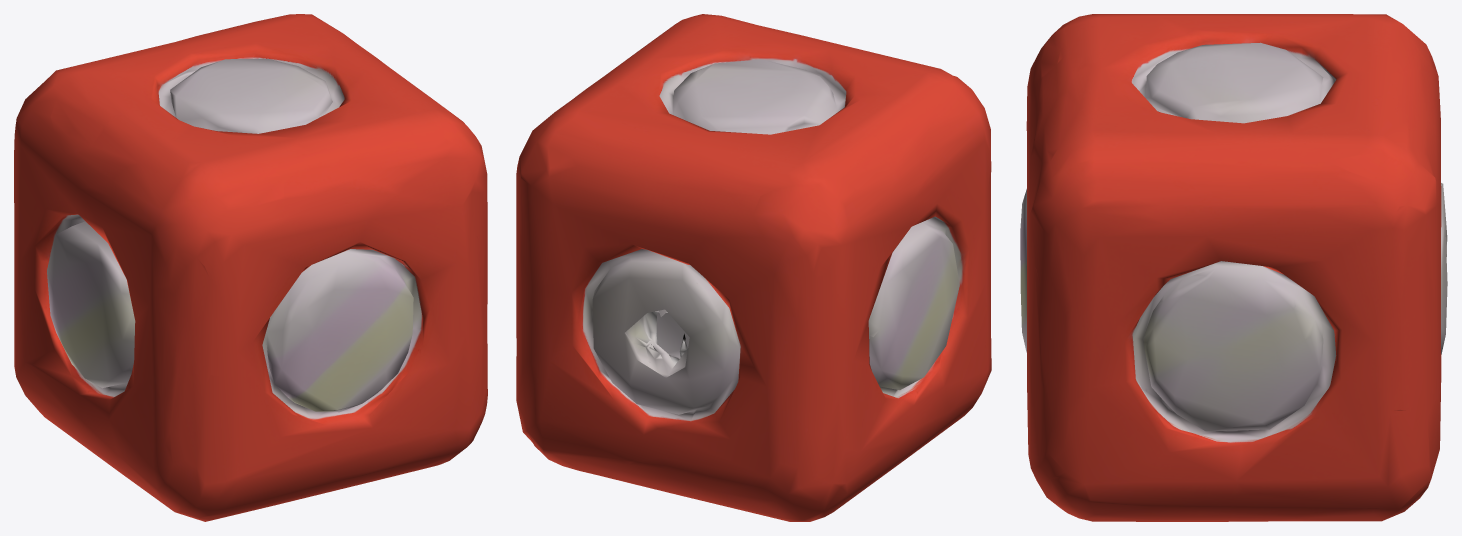
Rendered from match_red.fbx.
3 renders of one model, left to right at view 1: azimuth 30°, elevation 25°; view 2: azimuth 150°, elevation 25°; view 3: azimuth 270°, elevation 25°, orthographic. The views are drawn at different scales.
Parts seen in each view (by area): view 1: tripo_node_9056c653; view 2: tripo_node_9056c653; view 3: tripo_node_9056c653.
Boxes of the visible parts, bbox=[...] form: tripo_node_9056c653: bbox=[14, 14, 487, 521]; tripo_node_9056c653: bbox=[516, 14, 991, 521]; tripo_node_9056c653: bbox=[1020, 14, 1447, 521].
Size of the model in its own units: 99.22 by 99.3 by 100.
Materials: 1 (1 with a texture image).
